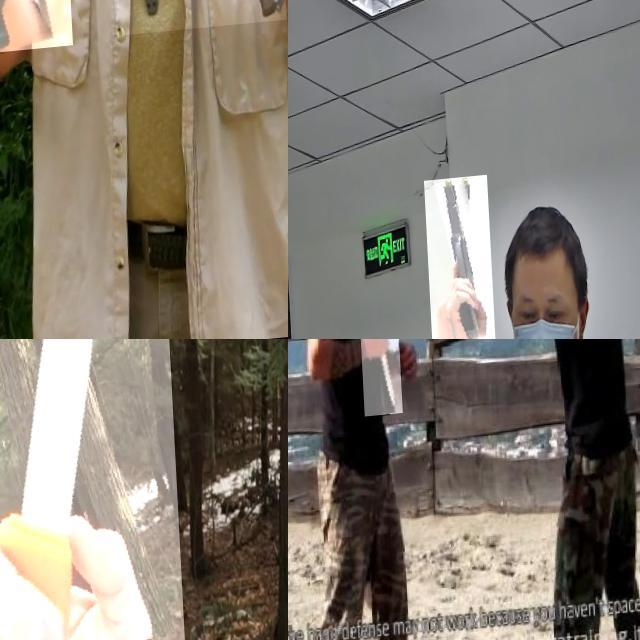-: (0, 339, 180, 640), (104, 0, 283, 110), (0, 0, 69, 123), (356, 339, 398, 421)
gun-knife-thesis - v11 Yolov5 augmented: (420, 180, 490, 339)
